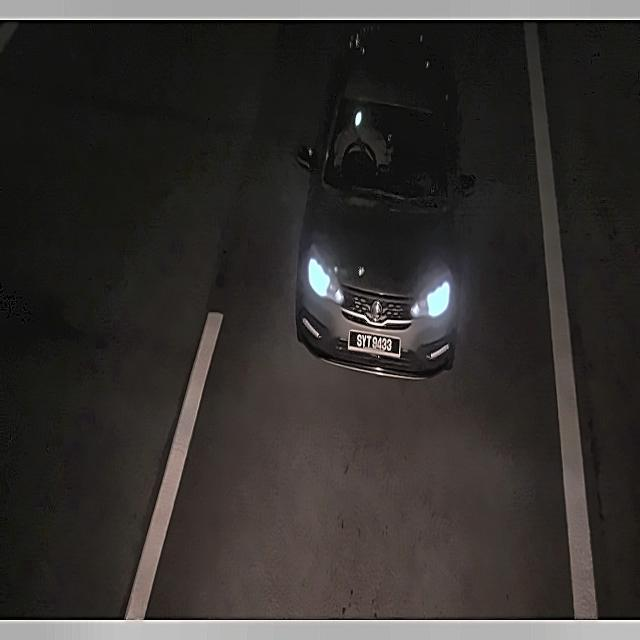car: (344, 323, 406, 362)
